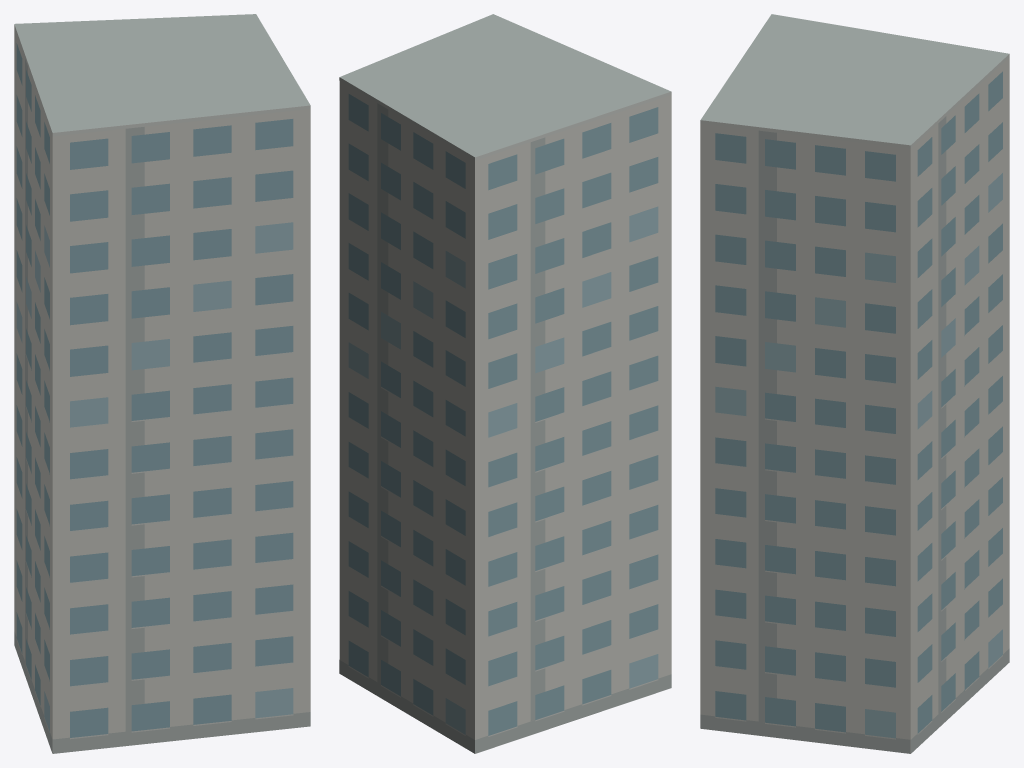
File: residential-0e2dc463-efda-4434-b7b4-a5c8bfd457f3.glb
The picture shows the model from 3 angles, left to right: view 1: azimuth 30°, elevation 25°; view 2: azimuth 150°, elevation 25°; view 3: azimuth 270°, elevation 25°; orthographic projection. The views are drawn at different scales.
Visible parts, largest first — view 1: residential-0e2dc463-efda-4434-b7b4-a5c8bfd457f3.tmp; view 2: residential-0e2dc463-efda-4434-b7b4-a5c8bfd457f3.tmp; view 3: residential-0e2dc463-efda-4434-b7b4-a5c8bfd457f3.tmp.
Boxes of the visible parts, <box> form: residential-0e2dc463-efda-4434-b7b4-a5c8bfd457f3.tmp: <box>14,14,310,753</box>; residential-0e2dc463-efda-4434-b7b4-a5c8bfd457f3.tmp: <box>339,14,671,753</box>; residential-0e2dc463-efda-4434-b7b4-a5c8bfd457f3.tmp: <box>700,14,1009,753</box>.
Bounding box in the file's own units: 19.45 × 42 × 19.35.
